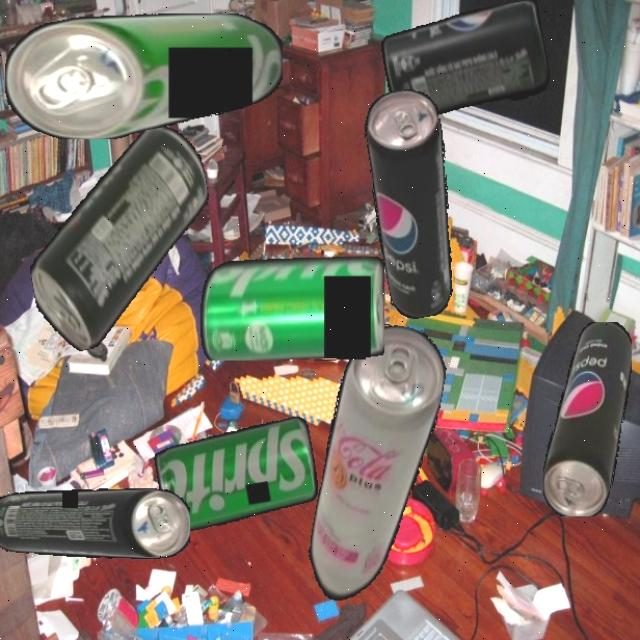debris: (10, 121, 231, 356), (300, 318, 452, 618), (5, 12, 283, 140), (355, 85, 473, 322), (378, 0, 553, 122), (152, 416, 322, 534), (200, 256, 384, 360), (542, 321, 632, 516), (0, 488, 190, 559)
